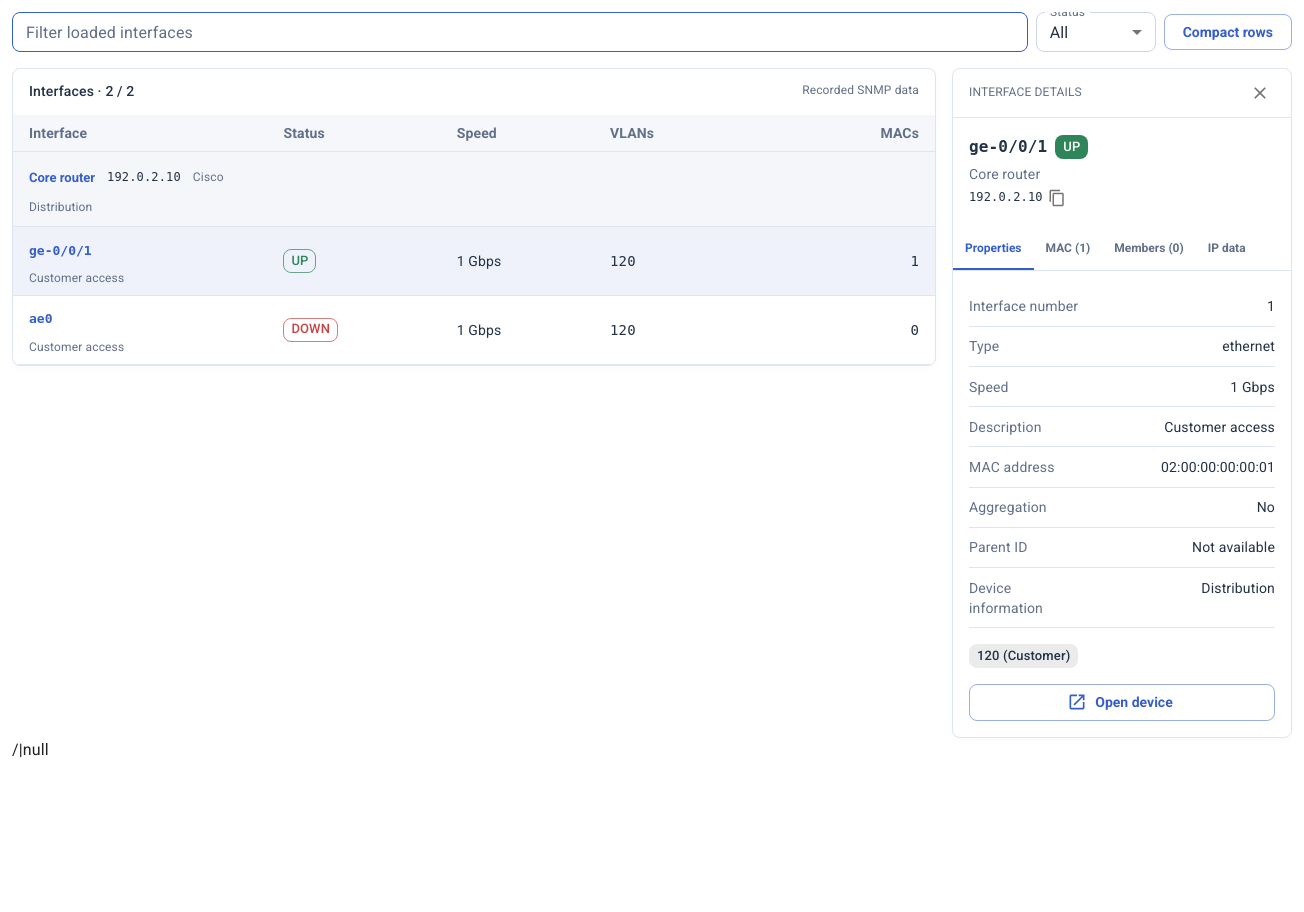
Test: engineering interface workspace › selects an interface and preserves all diagnostic sections
Expected: the text "Customer access" next to "Description" is shown, [1164, 419, 1275, 435]
Click the tab "MAC (1)".
click(1068, 248)  # box [1034, 228, 1102, 270]
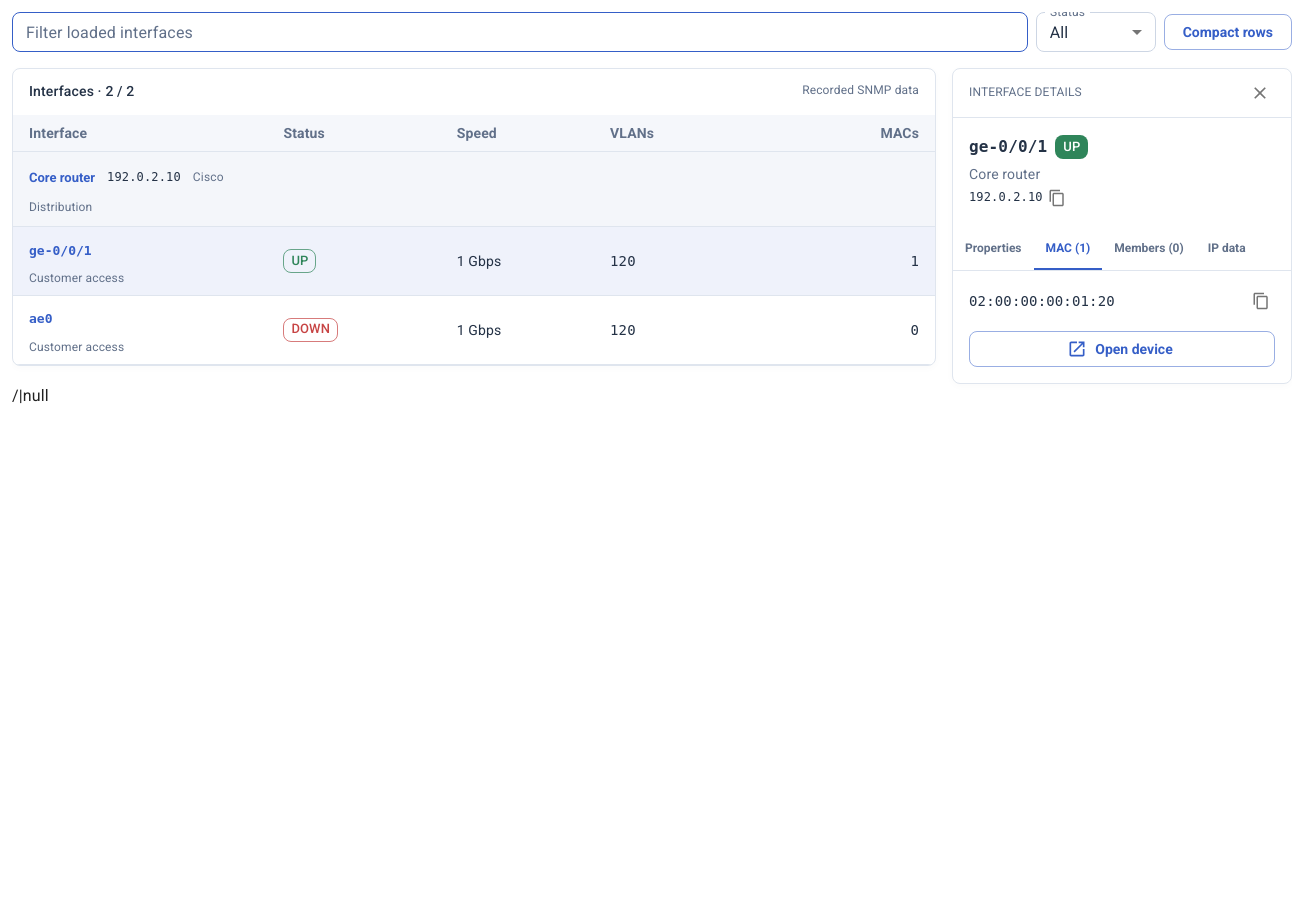
Expected: the text "02:00:00:00:01:20" is shown, [969, 290, 1115, 310]
Click the tab "IP data".
click(1227, 248)  # box [1196, 228, 1258, 270]
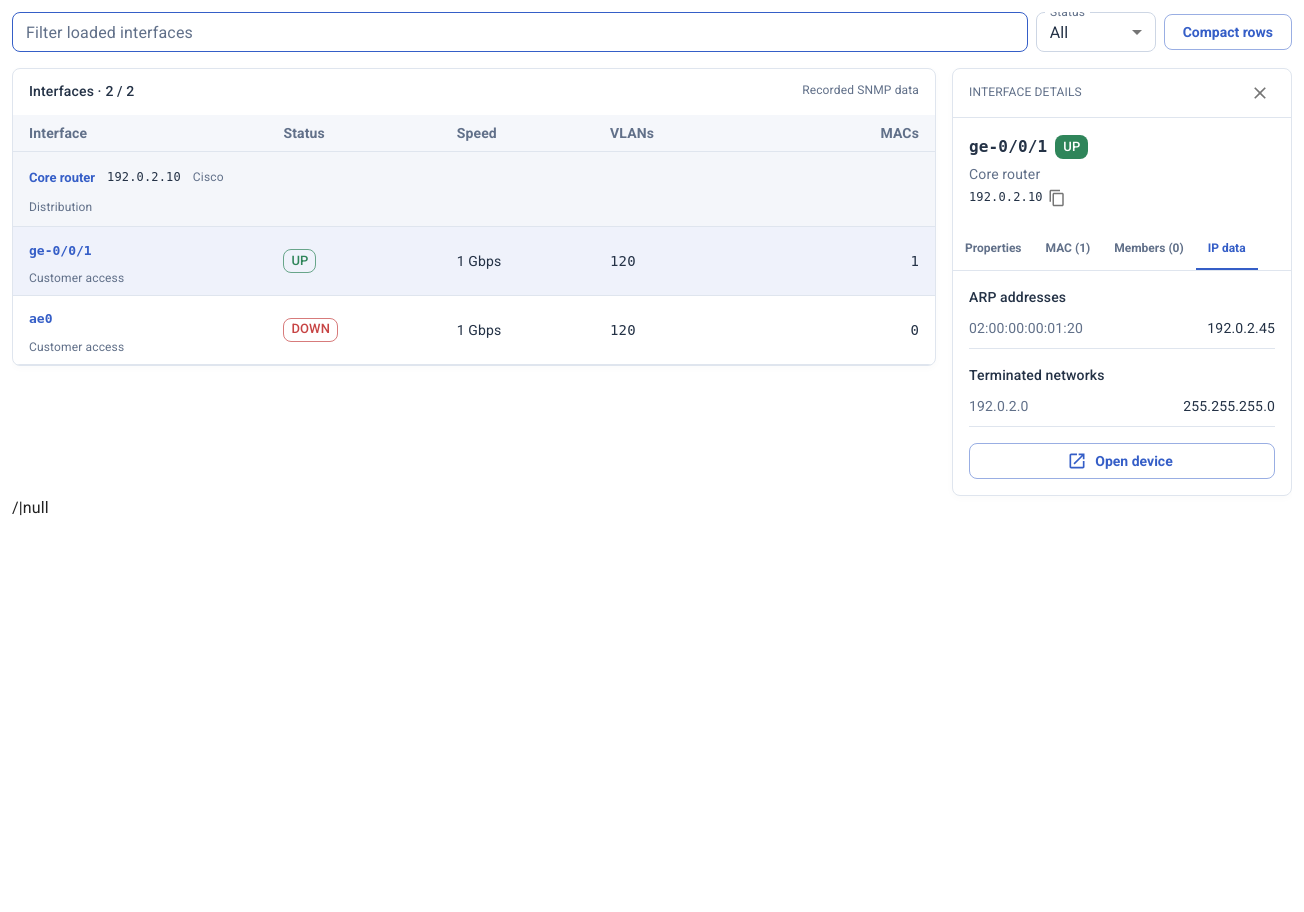
Expected: the text "192.0.2.45" is shown, [1207, 320, 1275, 336]
Expected: the text "255.255.255.0" is shown, [1183, 398, 1275, 414]
Click the button with aria-label "Inspect ae0 on Core router".
click(61, 320)  # box [29, 302, 93, 338]
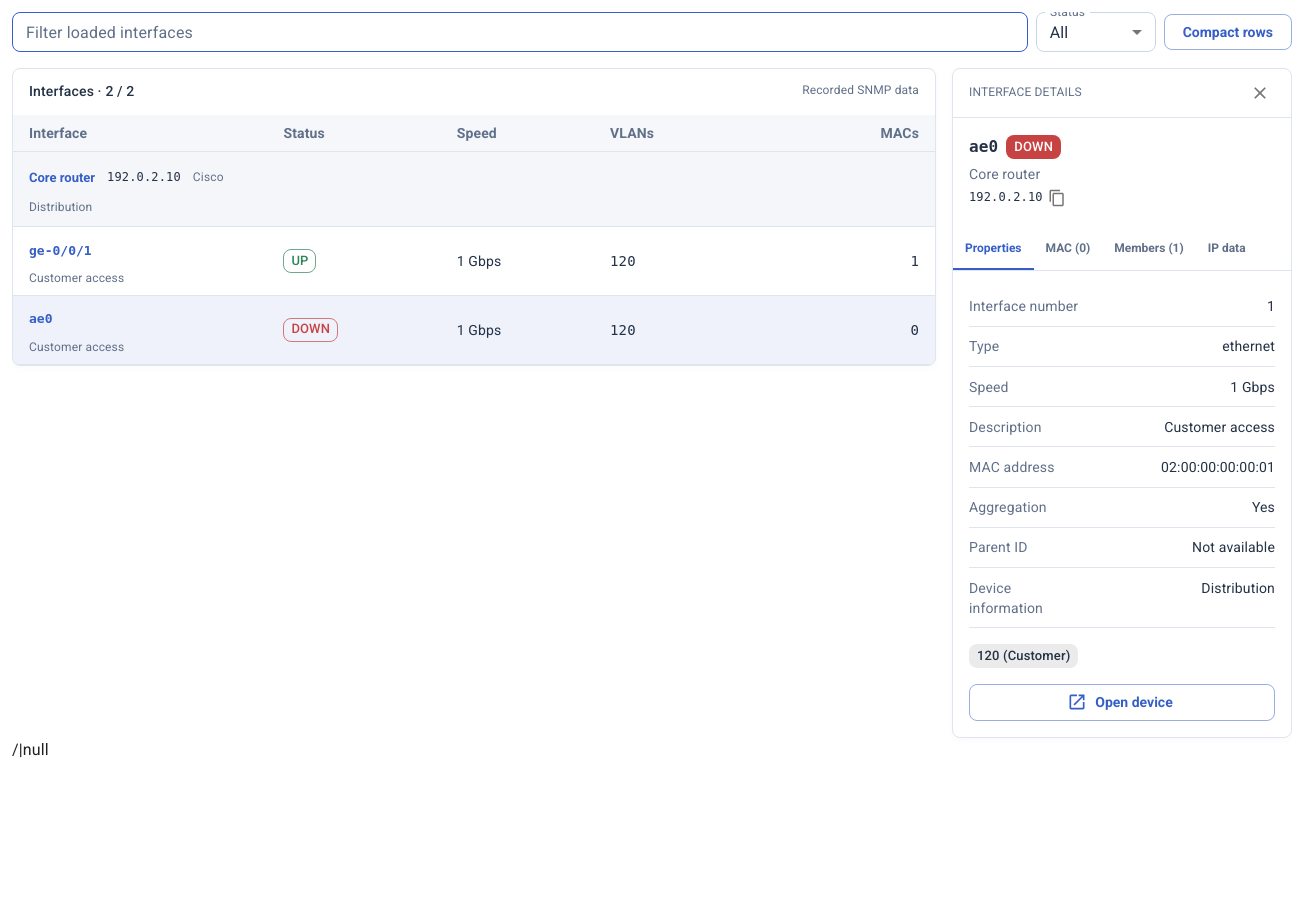
Click the tab "Members (1)".
click(1149, 248)  # box [1102, 228, 1196, 270]
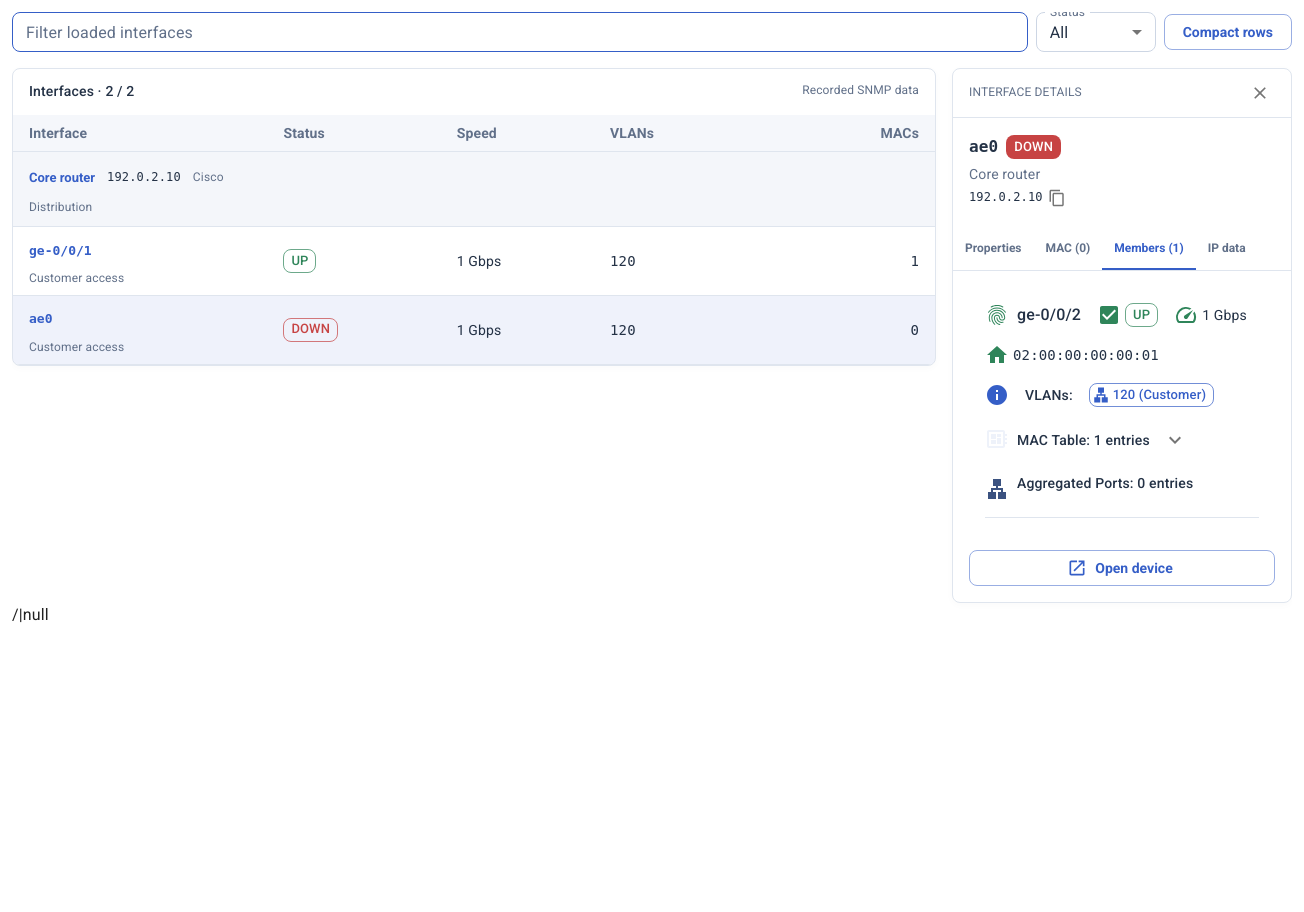
Expected: the text "ge-0/0/2" is shown, [1017, 302, 1081, 326]
